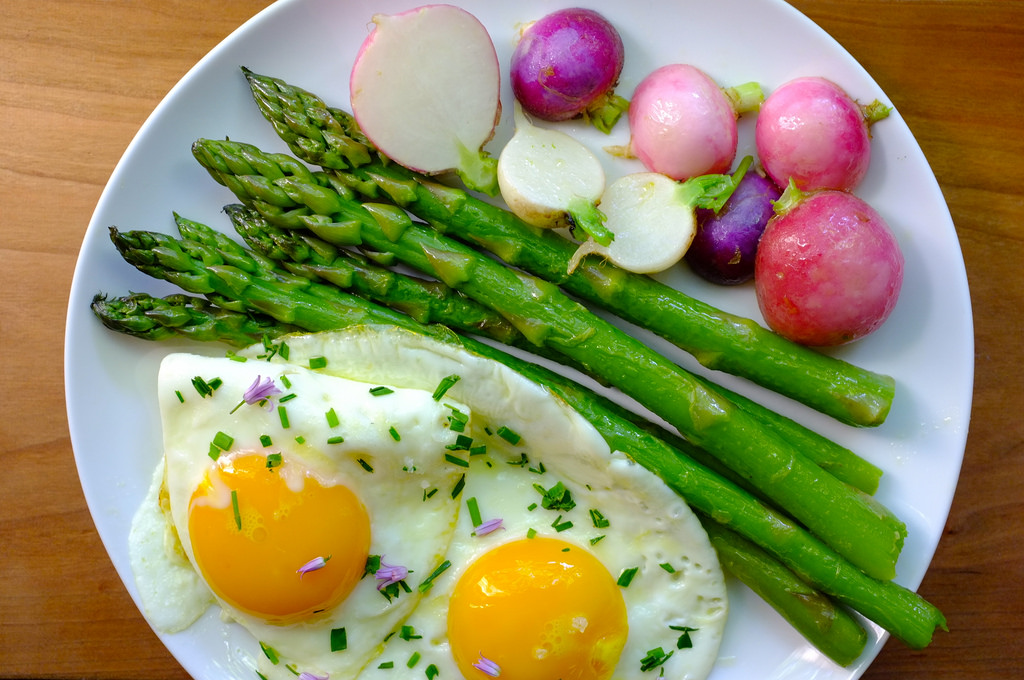fried egg: (142, 342, 439, 655), (417, 418, 706, 675)
